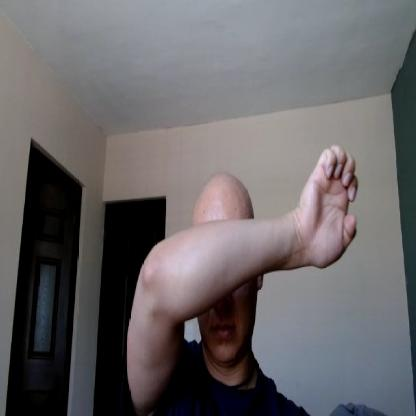E: (298, 145, 359, 273)
